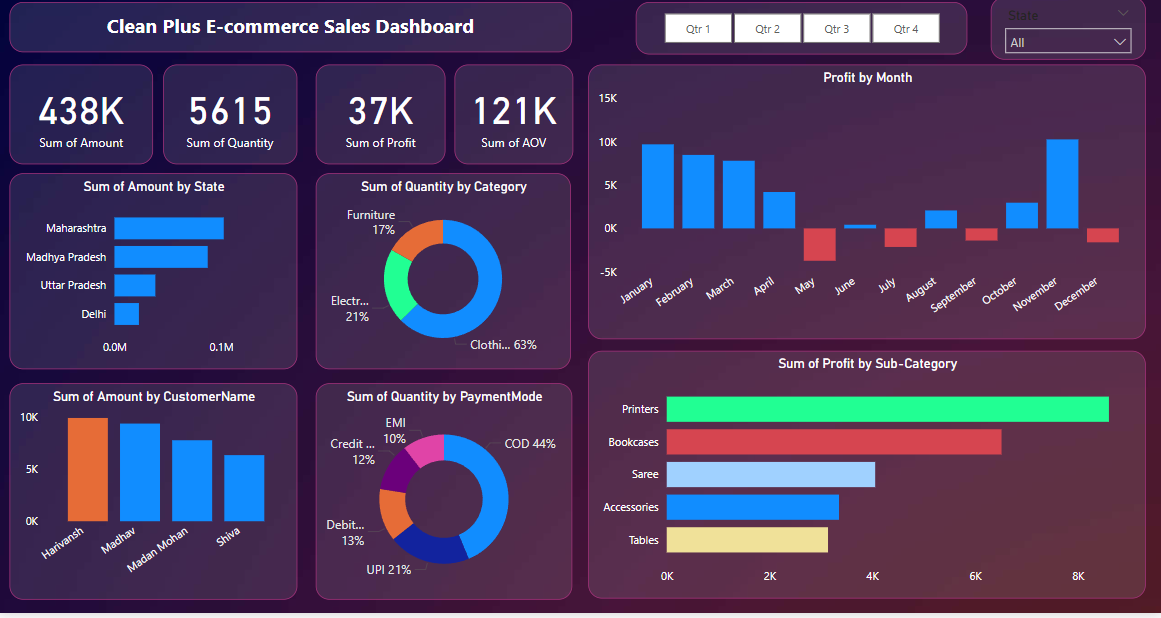

The page's visual inventory and layout, read from the dashboard file:
{"tool":"powerbi","page":{"name":"Page 1","canvas":[1280,720],"ordinal":0},"visuals":[{"type":"textbox","box":[13.7,49.4,617.5,54.9],"z":0},{"type":"columnChart","title":"Profit by Month","fields":{"Category":["Orders.Order Date.Variation.Date Hierarchy.Month"],"Y":["Details.Profit"]},"box":[649.1,118,612,301.9],"z":1000},{"type":"barChart","fields":{"Category":["Details.Sub-Category"],"Y":["Details.Profit"]},"box":[649.1,432.2,612,271.7],"z":1001},{"type":"donutChart","fields":{"Category":["Details.Category"],"Y":["Details.Quantity"]},"box":[349.9,237.4,279.9,215.4],"z":1002},{"type":"donutChart","fields":{"Category":["Details.PaymentMode"],"Y":["Details.Quantity"]},"box":[349.9,467.9,281.3,237.4],"z":1003},{"type":"card","fields":{"Values":["Details.Amount"]},"box":[13.7,118,157.8,109.8],"z":1004},{"type":"card","fields":{"Values":["Details.Quantity"]},"box":[182.5,118,146.8,109.8],"z":1005},{"type":"card","fields":{"Values":["Details.Profit"]},"box":[349.9,118,142.7,109.8],"z":1006},{"type":"card","fields":{"Values":["Details.AOV"]},"box":[502.2,118,130.4,109.8],"z":1007},{"type":"barChart","fields":{"Category":["Orders.State"],"Y":["Details.Amount"]},"box":[13.7,237.4,315.6,215.4],"z":1008},{"type":"columnChart","fields":{"Category":["Orders.CustomerName"],"Y":["Details.Amount"]},"box":[13.7,467.9,315.6,237.4],"z":1009},{"type":"slicer","fields":{"Values":["Orders.Order Date.Variation.Date Hierarchy.Quarter"]},"box":[701.2,49.4,363.6,57.6],"z":1010},{"type":"slicer","fields":{"Values":["Orders.State"]},"box":[1090.9,43.9,170.2,68.6],"z":1011}]}

Visuals, with their boxes on the page's 1280x720 design canvas (x1, y1, x2, y2). These are canvas units, not pixel positions in the 1161x618 screenshot, which may show the page scaled, cropped or inside an application window:
textbox: 14:49:631:104
"Profit by Month" columnChart: 649:118:1261:420
barChart - Details.Sub-Category x Details.Profit: 649:432:1261:704
donutChart - Details.Category x Details.Quantity: 350:237:630:453
donutChart - Details.PaymentMode x Details.Quantity: 350:468:631:705
card - Details.Amount: 14:118:172:228
card - Details.Quantity: 182:118:329:228
card - Details.Profit: 350:118:493:228
card - Details.AOV: 502:118:633:228
barChart - Orders.State x Details.Amount: 14:237:329:453
columnChart - Orders.CustomerName x Details.Amount: 14:468:329:705
slicer - Orders.Order Date.Variation.Date Hierarchy.Quarter: 701:49:1065:107
slicer - Orders.State: 1091:44:1261:112
